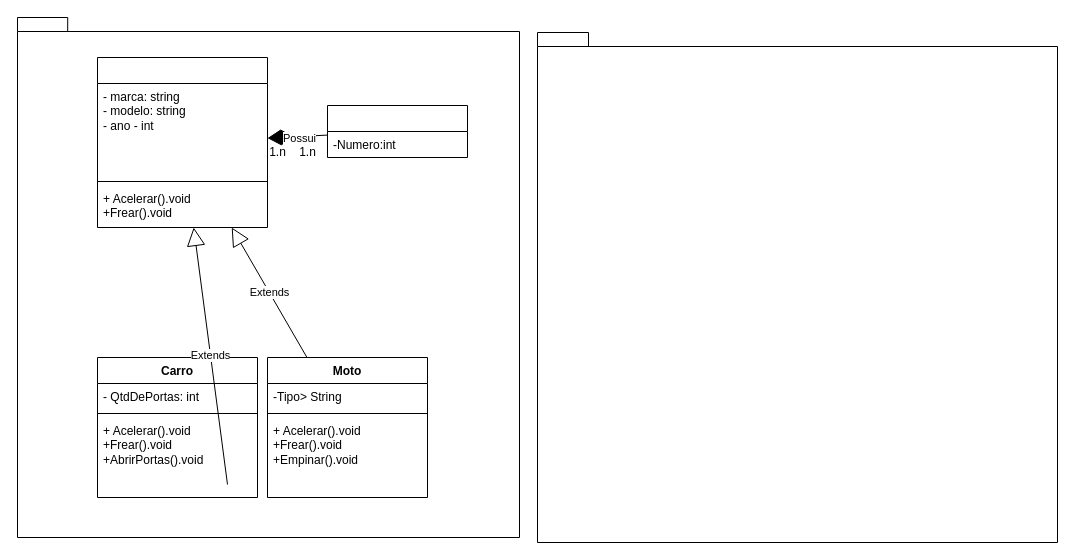
Some shapes in this 1075 by 560 pixel diagram are drawn without their labels. The box of each missing label's shape, as (x1, y1, x2, y2) in pixels:
Frota: (326, 104, 468, 158)
Veiculo: (96, 56, 268, 228)
